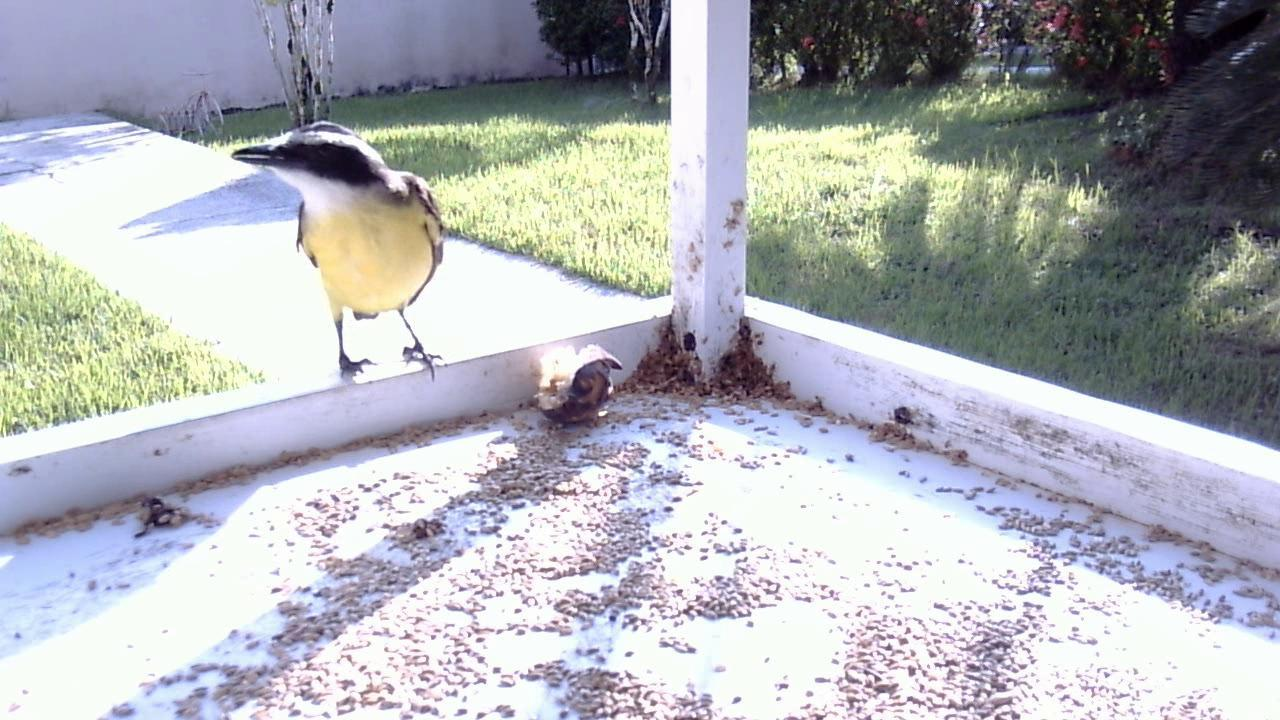bem_te_vi: (167, 116, 457, 400)
